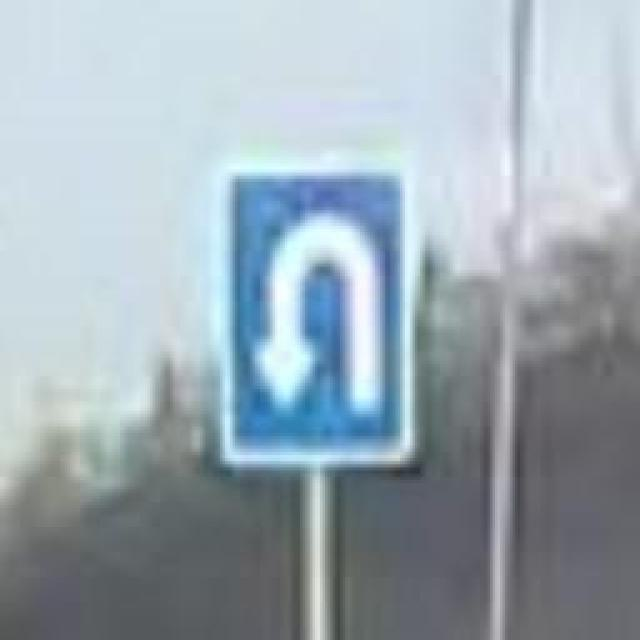U-turn: (223, 164, 410, 456)
